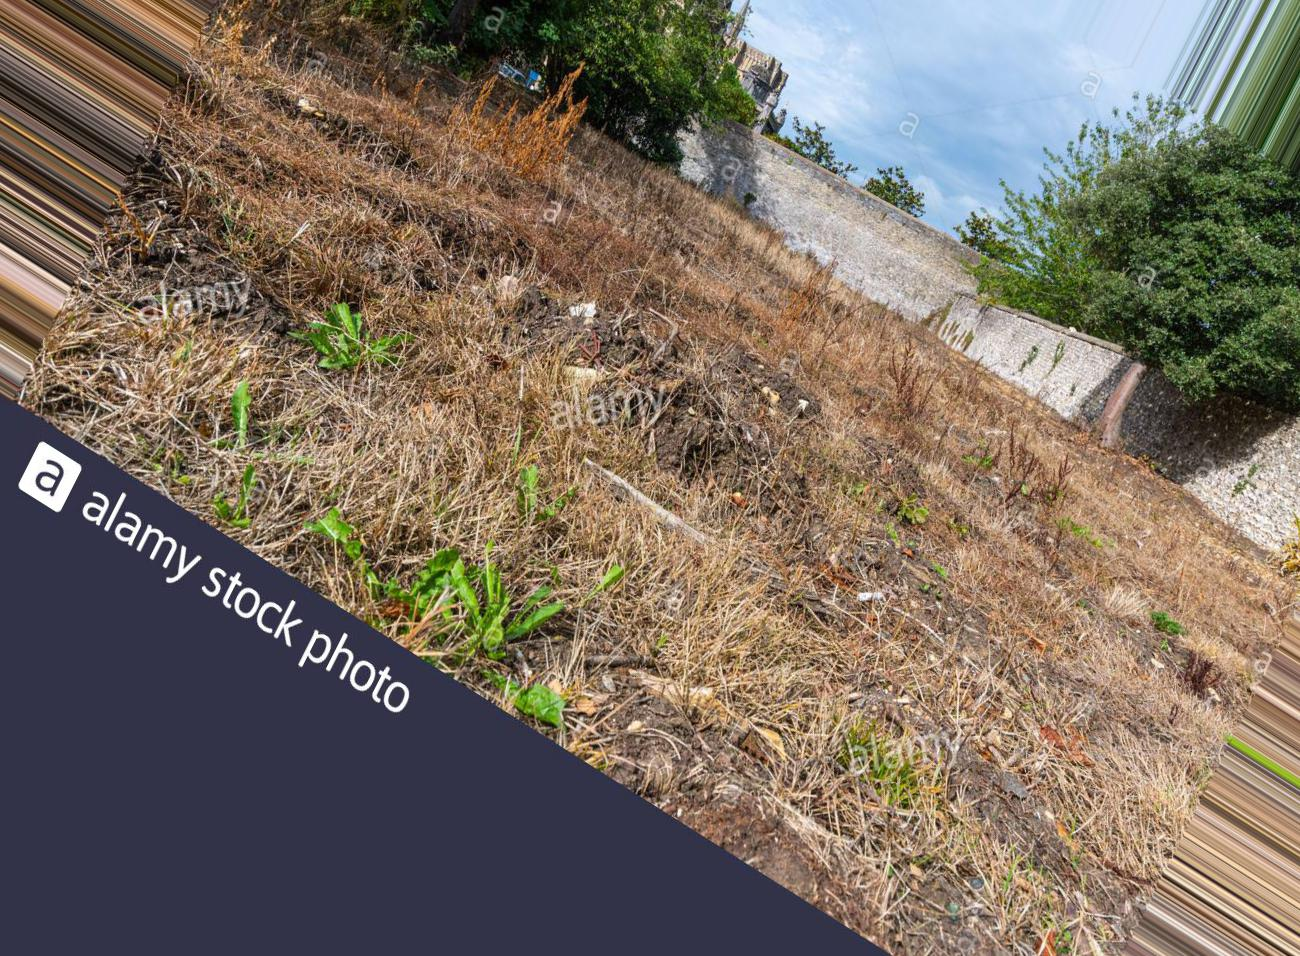patch: (324, 271, 580, 443), (662, 494, 842, 669), (716, 230, 895, 371), (943, 381, 1099, 518), (786, 802, 924, 911), (944, 569, 1046, 714), (1137, 527, 1226, 629)
